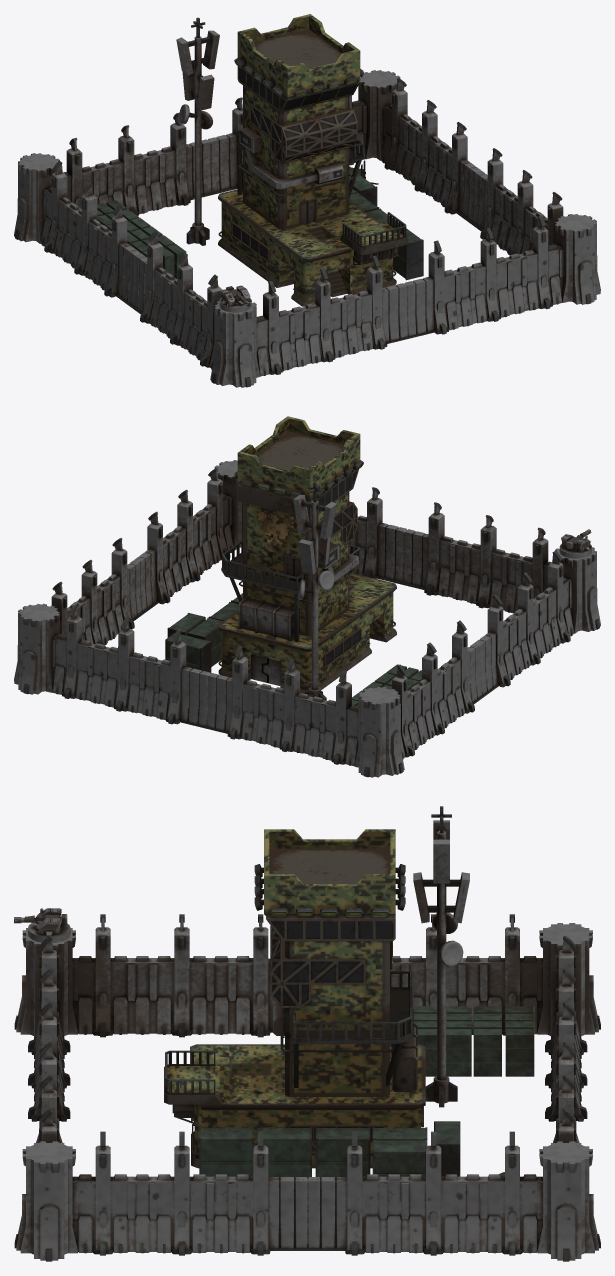
File: Tower.fbx
3 views of the same model, one above another, from view 1: azimuth 30°, elevation 25°; view 2: azimuth 150°, elevation 25°; view 3: azimuth 270°, elevation 25° (orthographic). The views are drawn at different scales.
Visible parts, largest first — view 1: Tower, Turret; view 2: Tower, Turret; view 3: Tower, Turret.
Boxes of the visible parts, bbox=[...] form: Tower: bbox=[14, 14, 600, 387]; Turret: bbox=[219, 285, 251, 312]; Tower: bbox=[14, 416, 600, 777]; Turret: bbox=[559, 529, 591, 558]; Tower: bbox=[14, 806, 600, 1261]; Turret: bbox=[14, 908, 70, 942].
Bounding box in the file's own units: 4463 × 2516 × 4467.
